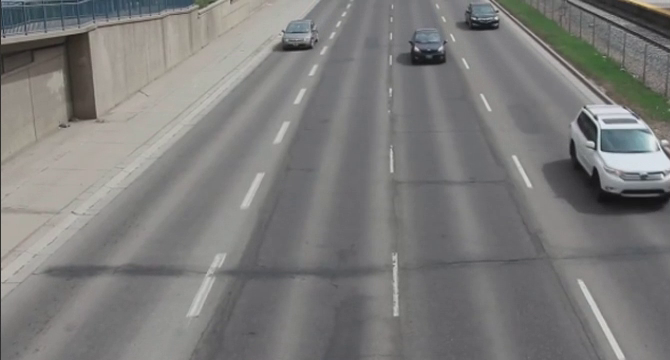car: (561, 98, 670, 210), (408, 23, 452, 67), (281, 16, 320, 54), (464, 2, 504, 30)
